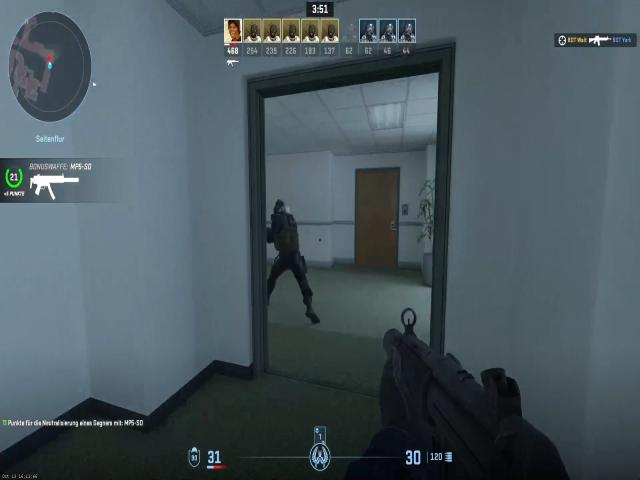CT: (265, 211, 304, 266)
CT-Head: (272, 197, 292, 222)
